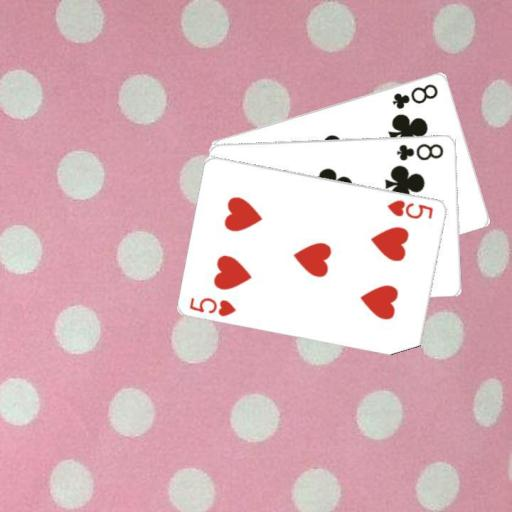5H: (384, 197, 435, 221), (187, 294, 238, 318)
8C: (389, 81, 439, 111), (394, 140, 445, 163)
